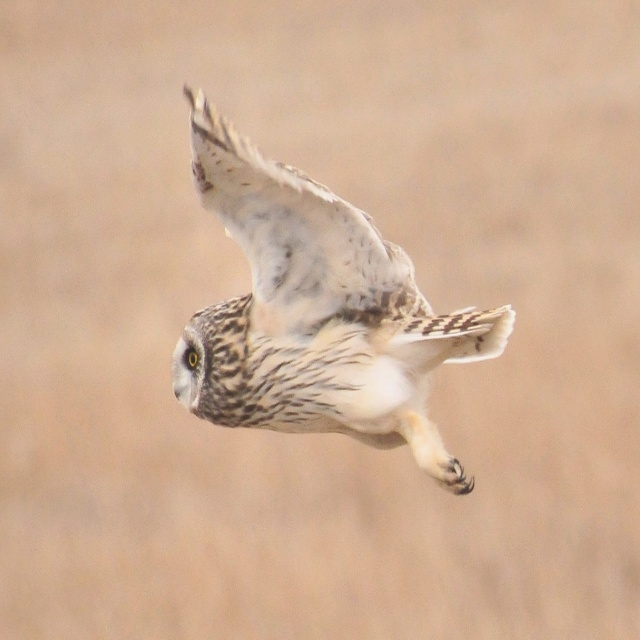Owl: (172, 86, 517, 496)
